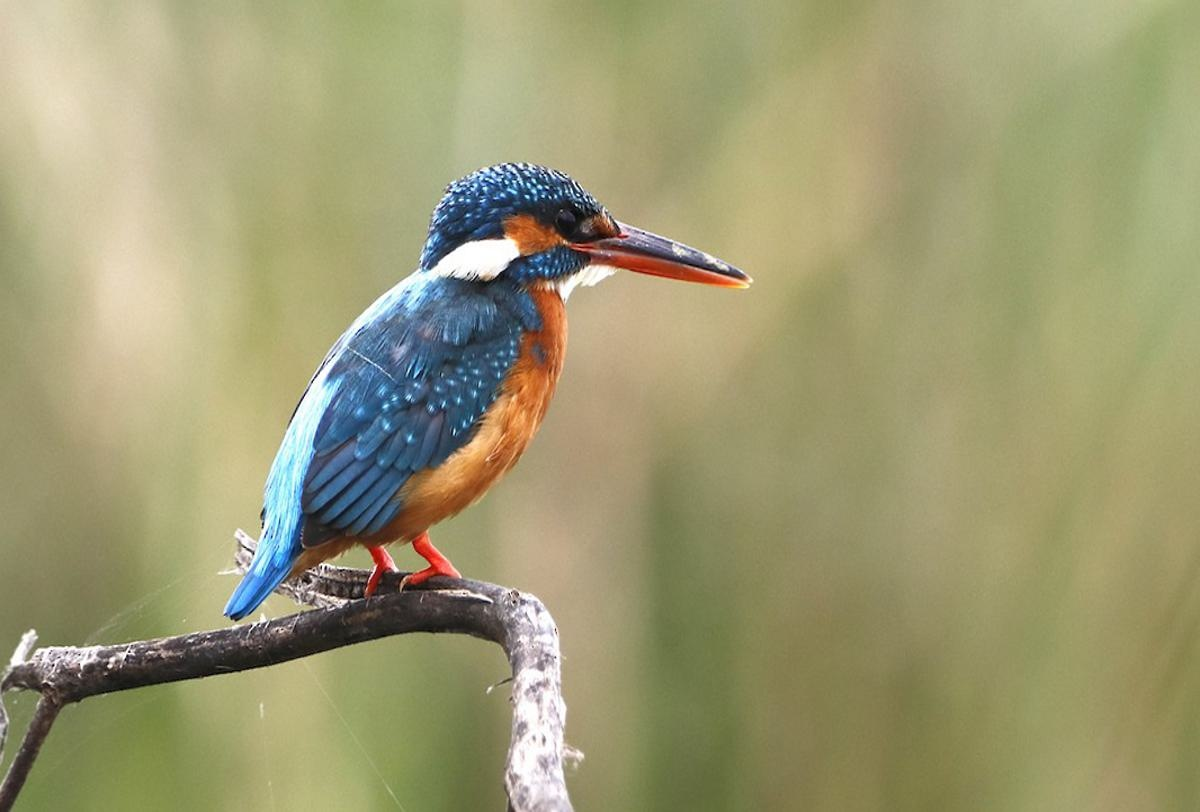kingfisher: (216, 150, 761, 628)
